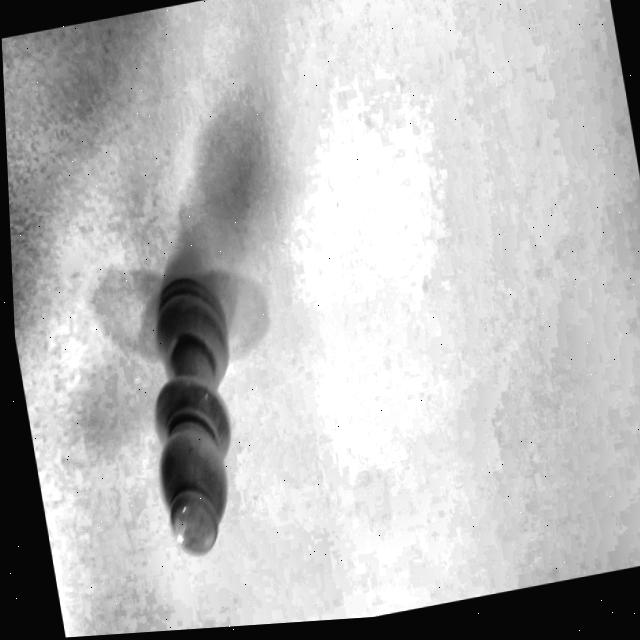white-bishop: (79, 213, 309, 635)
